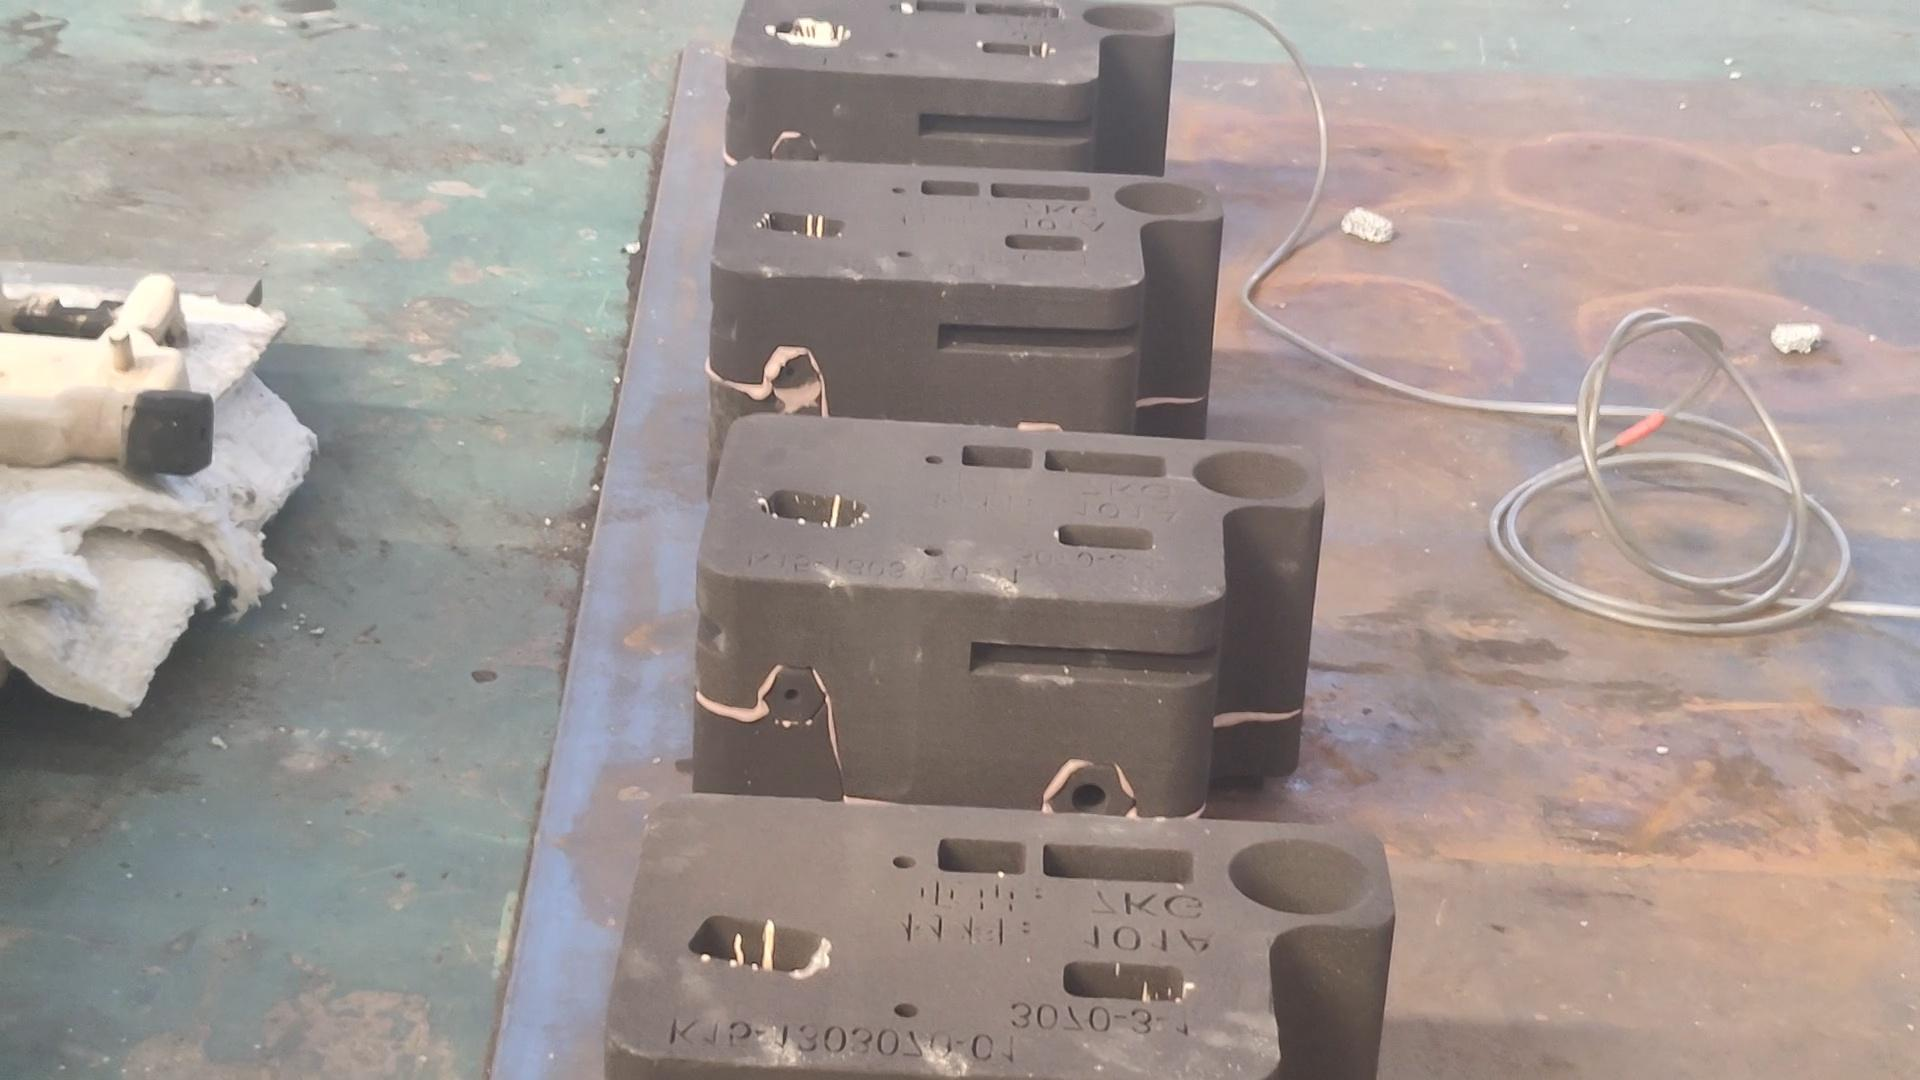pouring hole: (1226, 836, 1375, 916), (1189, 452, 1313, 498), (1112, 179, 1211, 216), (1083, 4, 1164, 34)
